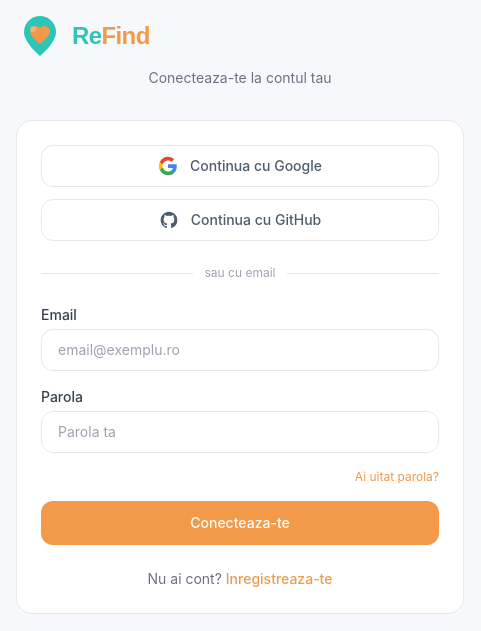
Scenario: Auth Page › switches to reset password mode
The width and height of the screenshot is (481, 631).
Click the button "Ai uitat parola?" at [397, 477], box [355,469,439,485]
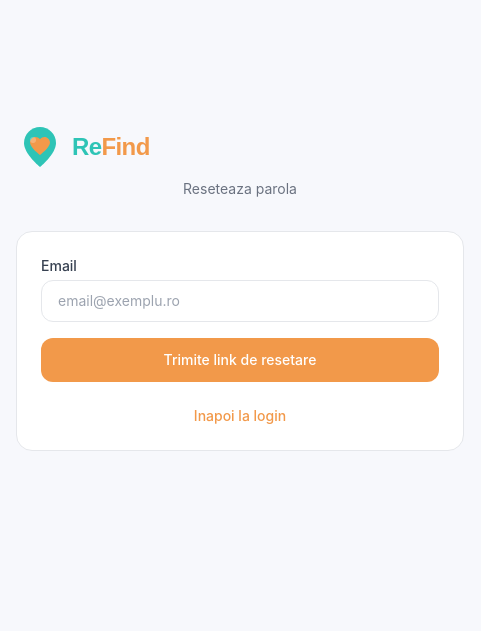
Expected: the text "Reseteaza parola" is shown, [183,180,297,197]
Expected: the button "Trimite link de resetare" is shown, [41,338,439,382]
